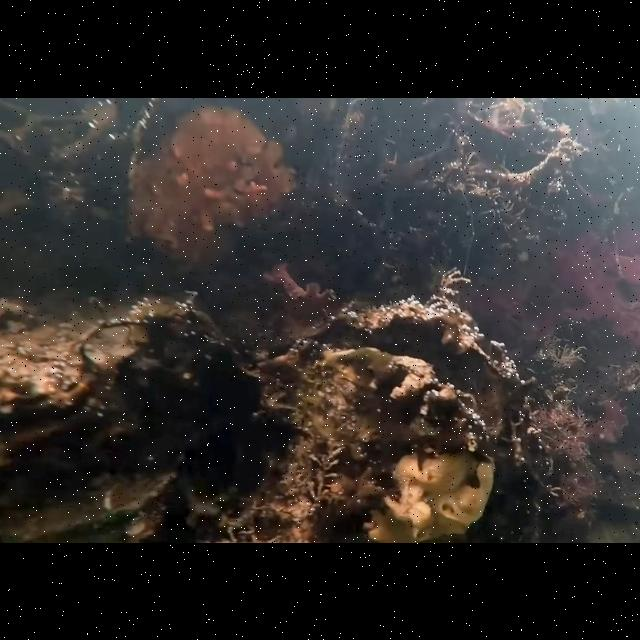Oyster-Closed: (128, 98, 296, 272)
Oyster-Open: (256, 298, 510, 542), (0, 292, 186, 460), (0, 470, 178, 542)
